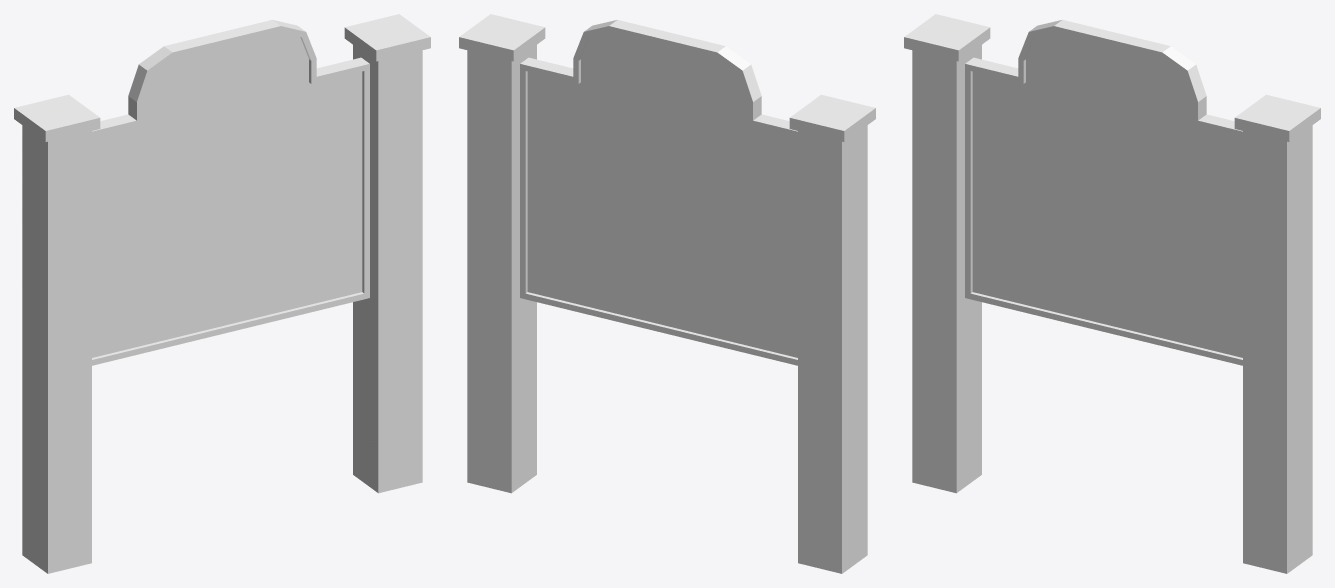
File: Bld_Farm_Sign_01.glb
The picture shows the model from 3 angles, left to right: view 1: azimuth 30°, elevation 25°; view 2: azimuth 150°, elevation 25°; view 3: azimuth 330°, elevation 25°; orthographic projection.
Parts seen in each view (by area): view 1: Bld_Farm_Sign_01; view 2: Bld_Farm_Sign_01; view 3: Bld_Farm_Sign_01.
Boxes of the visible parts, x1,y1,x2,y2 form: Bld_Farm_Sign_01: (14,14,430,573); Bld_Farm_Sign_01: (459,14,875,573); Bld_Farm_Sign_01: (904,14,1320,573).
Bounding box in the file's own units: 1.27 × 1.52 × 0.1804.
1 material, 1 textured.
